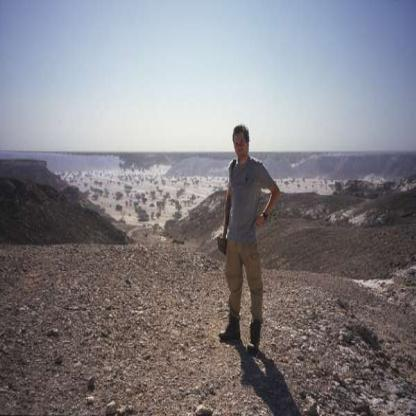person: (218, 118, 278, 356)
